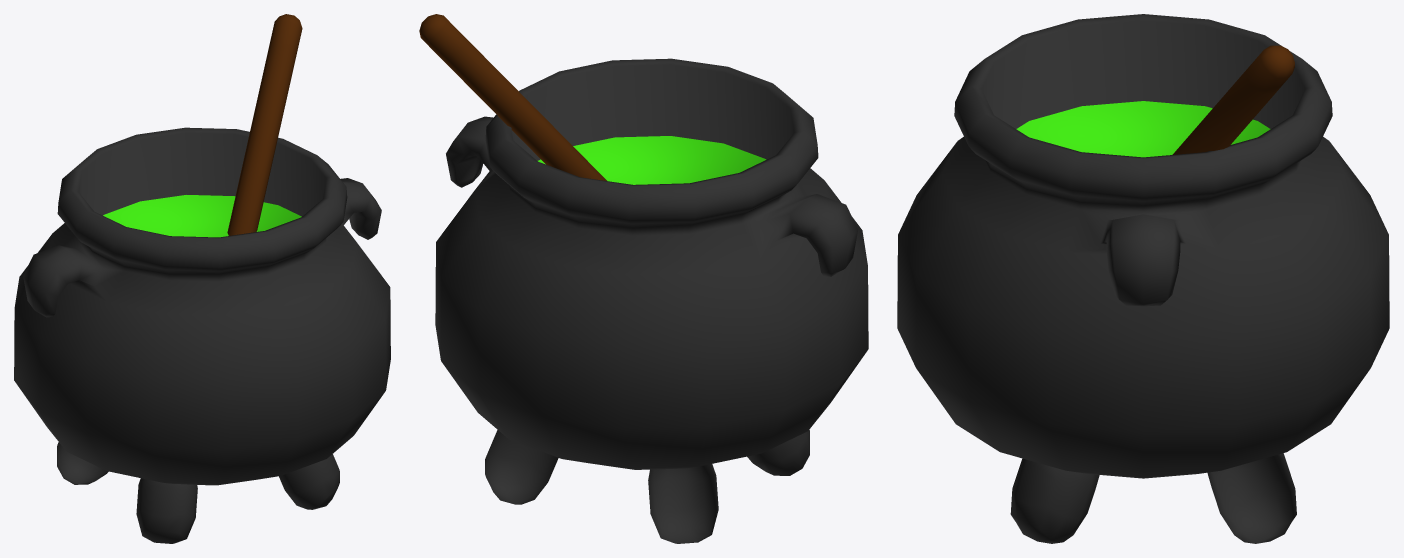
File: caldeirao.fbx
3 views of the same model, side by side, from view 1: azimuth 30°, elevation 25°; view 2: azimuth 150°, elevation 25°; view 3: azimuth 270°, elevation 25° (orthographic). The views are drawn at different scales.
Visible parts, largest first — view 1: caldeirao, colher; view 2: caldeirao, colher; view 3: caldeirao, colher.
Part boxes in pixels (x1,y1,x2,y2): caldeirao: [14, 127, 390, 543]; colher: [227, 14, 302, 235]; caldeirao: [435, 58, 868, 543]; colher: [419, 14, 606, 180]; caldeirao: [897, 14, 1389, 543]; colher: [1172, 45, 1294, 154].
Size of the model in its own units: 384 by 435 by 364.
